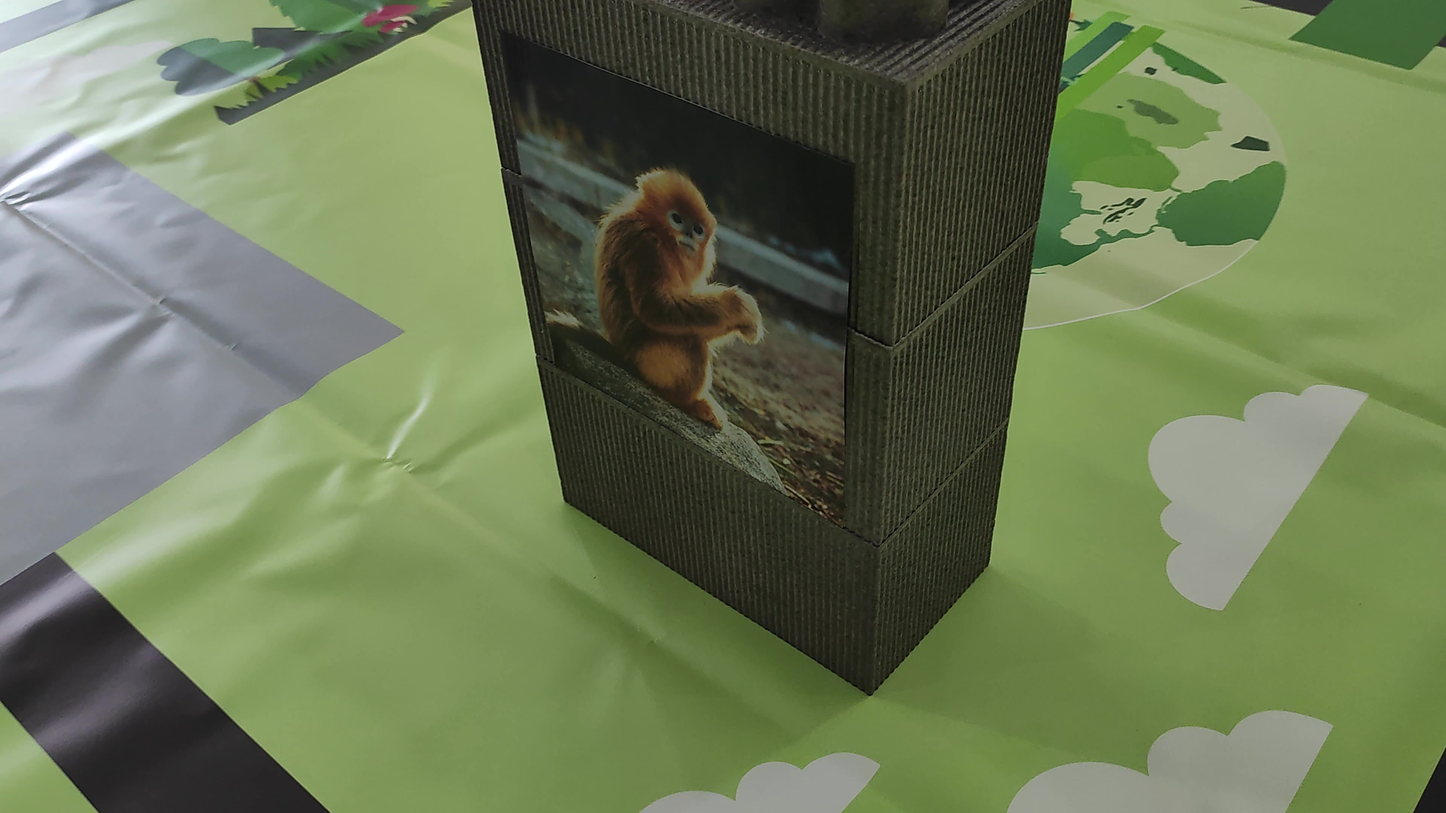monkey: (527, 110, 816, 434)
